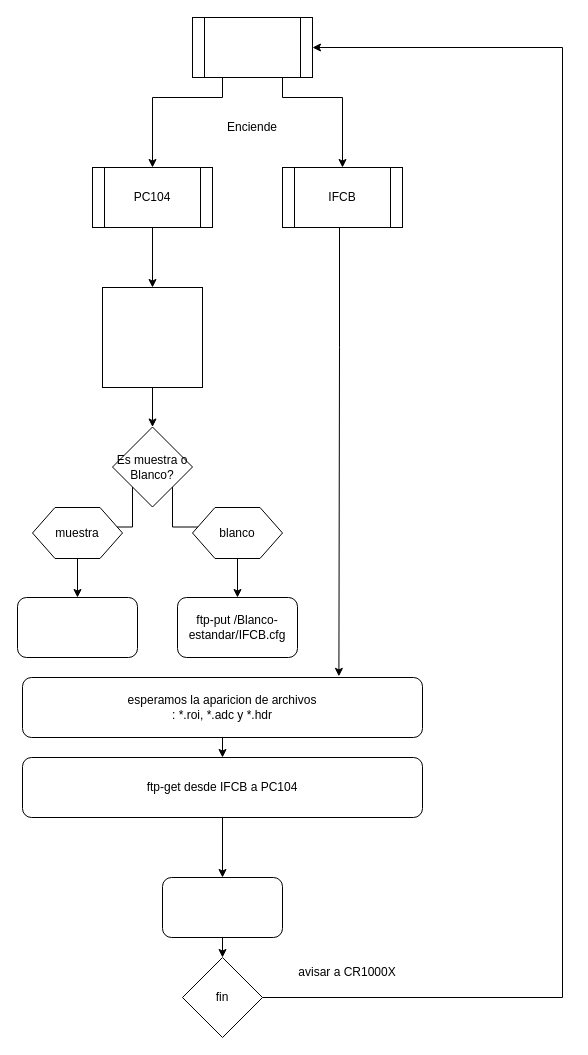
Some shapes in this 588 by 1055 pixel diagram are drawn without their labels. The shapes that lost their labels are listed below. From the top down, each one's centre as x and y in pixels, then its label:
At pixel 252 47: "CR1000X".
At pixel 152 337: "Lee Archivo C:/contador.txt en PC 104".
At pixel 77 627: "ftp-put /muestra/IFCB.cfg".
At pixel 222 907: "modificar archivo txt".
